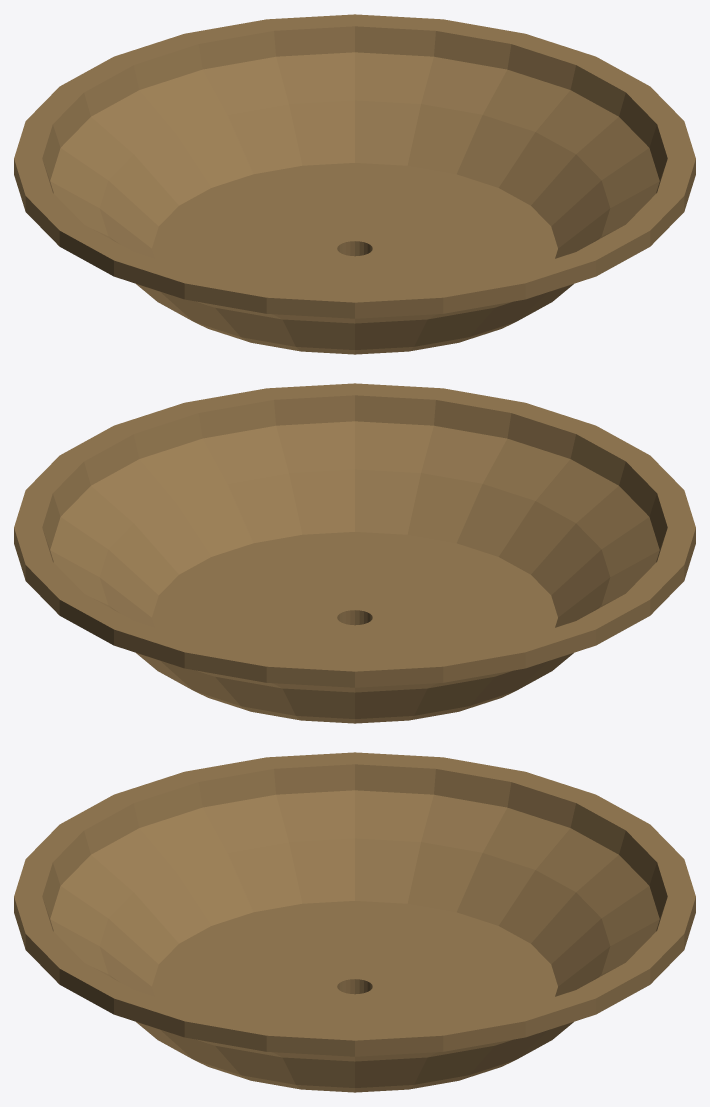
The model's file is vessel-shallow.glb.
The picture shows the model from 3 angles, top to bottom: view 1: azimuth 30°, elevation 25°; view 2: azimuth 150°, elevation 25°; view 3: azimuth 270°, elevation 25°; orthographic projection.
Parts seen in each view (by area): view 1: vessel-shallow/complete-inner-outer-shell-with-drainage; view 2: vessel-shallow/complete-inner-outer-shell-with-drainage; view 3: vessel-shallow/complete-inner-outer-shell-with-drainage.
Boxes of the visible parts, bbox=[...] form: vessel-shallow/complete-inner-outer-shell-with-drainage: bbox=[14, 14, 695, 354]; vessel-shallow/complete-inner-outer-shell-with-drainage: bbox=[14, 383, 695, 723]; vessel-shallow/complete-inner-outer-shell-with-drainage: bbox=[14, 752, 695, 1092].
Bounding box in the file's own units: 0.3826 × 0.078 × 0.3826.
Materials: 1 (1 with a texture image).
